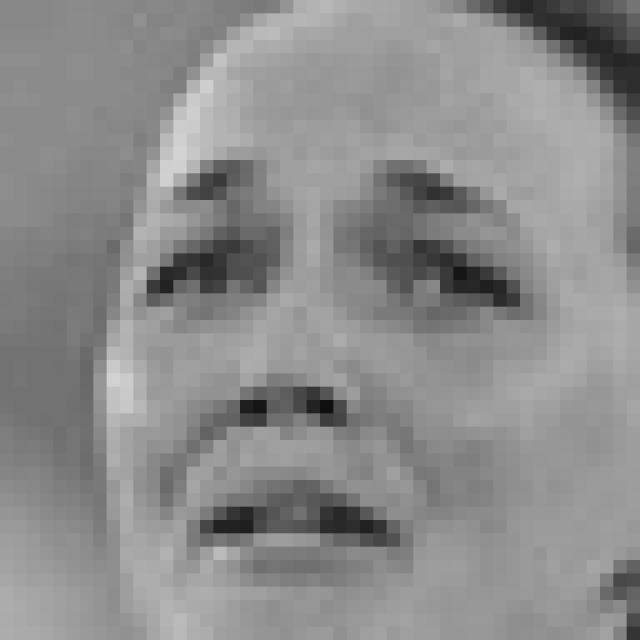sad: (129, 142, 541, 592)
